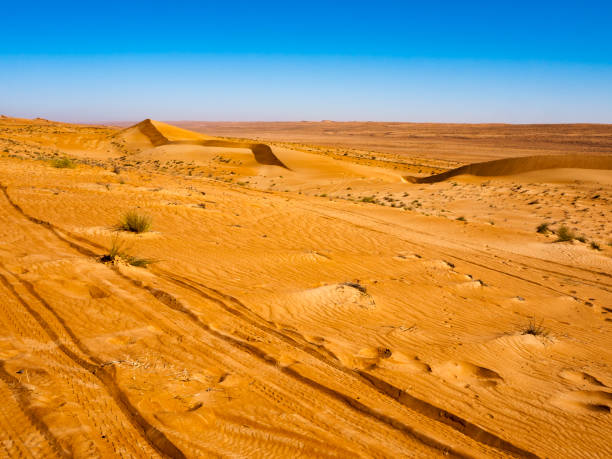vehicle_track: (156, 269, 536, 456), (115, 269, 462, 456), (116, 270, 460, 455), (0, 273, 185, 457), (394, 234, 566, 295), (0, 360, 69, 457)
